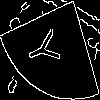Y: (25, 25, 68, 72)
